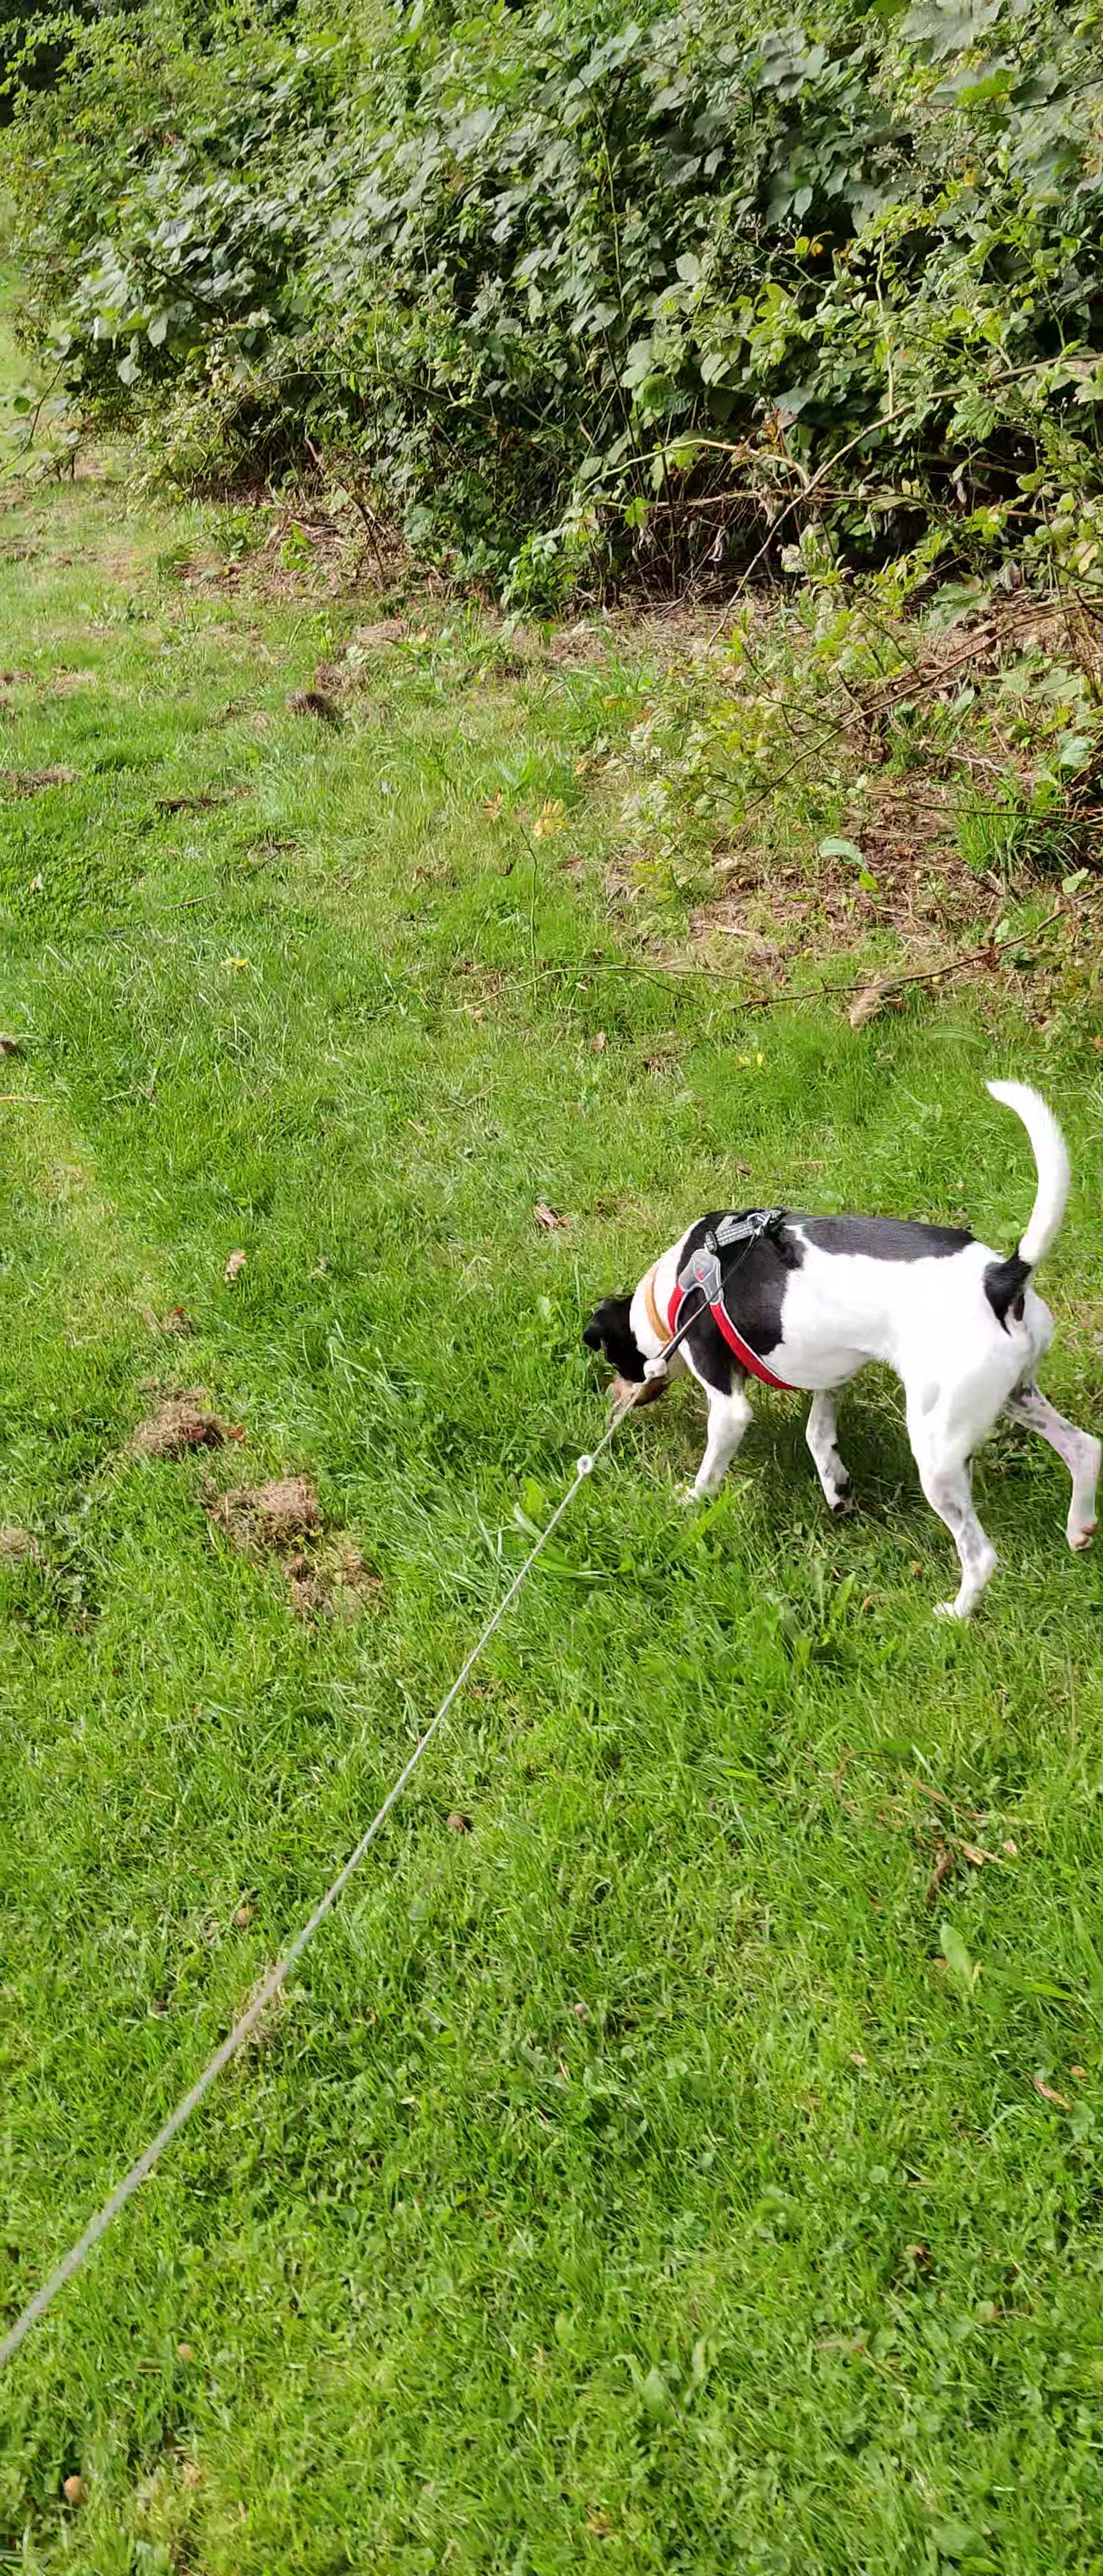Dog: (569, 1069, 1103, 1636)
